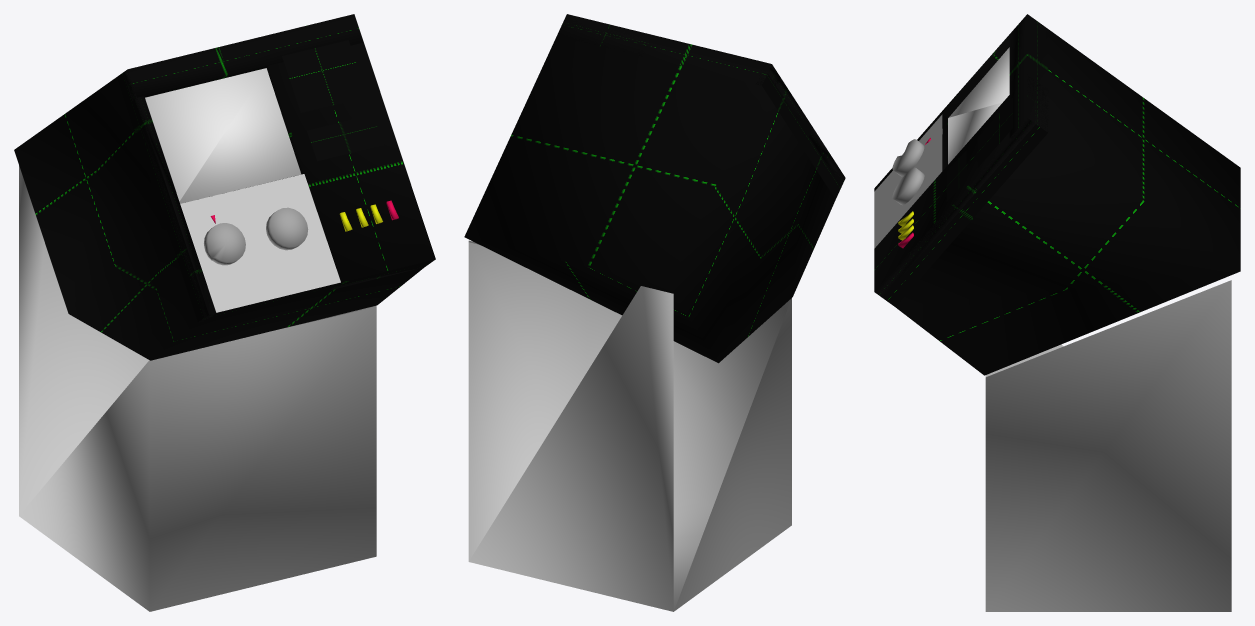
File: menntaru_machine.fbx
3 views of the same model, side by side, from view 1: azimuth 30°, elevation 25°; view 2: azimuth 150°, elevation 25°; view 3: azimuth 270°, elevation 25° (orthographic). The views are drawn at different scales.
Visible parts, largest first — view 1: obj1, obj2, obj5, obj4, obj3, obj6; view 2: obj1, obj2; view 3: obj2, obj1, obj5, obj3, obj4, obj6.
Part boxes in pixels (x1,y1,x2,y2): obj1: [19, 165, 376, 611]; obj2: [14, 14, 435, 360]; obj5: [180, 174, 398, 312]; obj4: [282, 40, 367, 112]; obj3: [204, 207, 308, 265]; obj6: [307, 114, 383, 161]; obj1: [468, 240, 791, 611]; obj2: [464, 14, 845, 363]; obj2: [874, 14, 1240, 375]; obj1: [985, 280, 1231, 611]; obj5: [874, 114, 942, 248]; obj3: [892, 138, 930, 205]; obj4: [977, 98, 1012, 167]; obj6: [946, 150, 966, 201].
Size of the model in its own units: 2 by 4.44 by 2.98.
7 materials, 2 textured.
